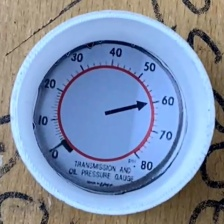gauge: (34, 40, 185, 194)
